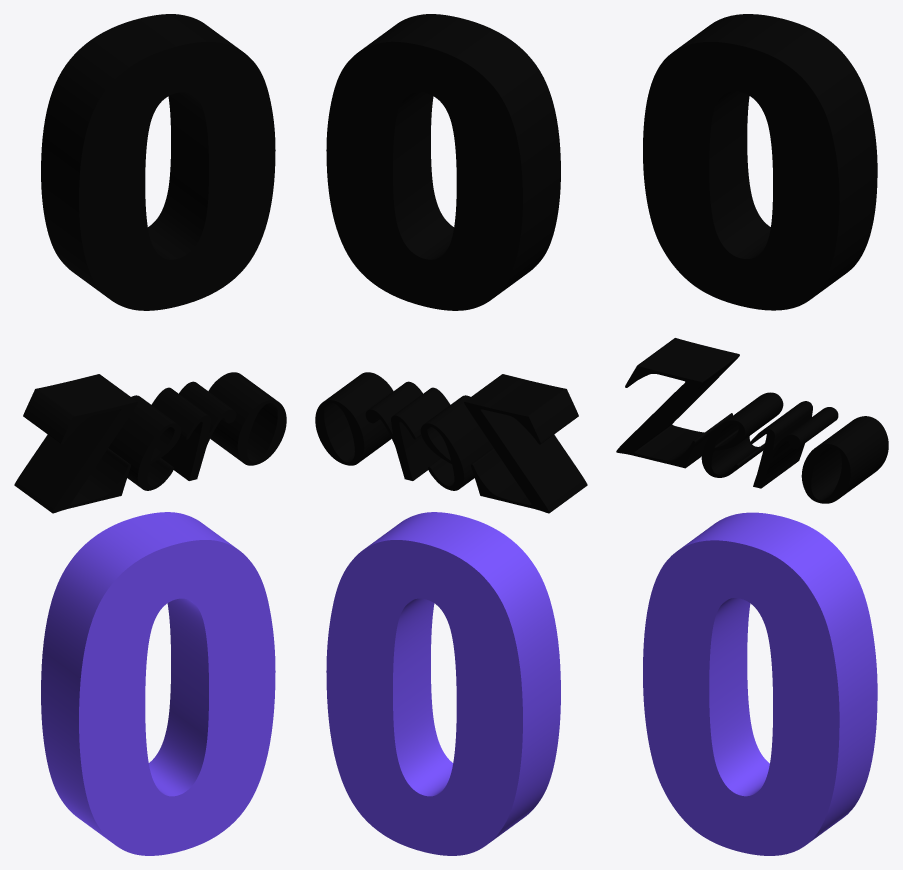
The model's file is Number_0.glb.
3 views of the same model, side by side, from view 1: azimuth 30°, elevation 25°; view 2: azimuth 150°, elevation 25°; view 3: azimuth 330°, elevation 25° (orthographic).
Parts seen in each view (by area): view 1: Text.002, Text, Text.001; view 2: Text.002, Text, Text.001; view 3: Text.002, Text, Text.001.
Boxes of the visible parts, left/top/right/bottom form: Text.002: left=41, top=512, right=275, bottom=855; Text: left=41, top=14, right=275, bottom=310; Text.001: left=14, top=372, right=286, bottom=513; Text.002: left=326, top=512, right=560, bottom=855; Text: left=326, top=14, right=560, bottom=310; Text.001: left=315, top=372, right=587, bottom=513; Text.002: left=643, top=512, right=877, bottom=855; Text: left=643, top=14, right=877, bottom=310; Text.001: left=616, top=338, right=888, bottom=503.
Bounding box in the file's own units: 0.4275 × 1.4 × 0.12.
